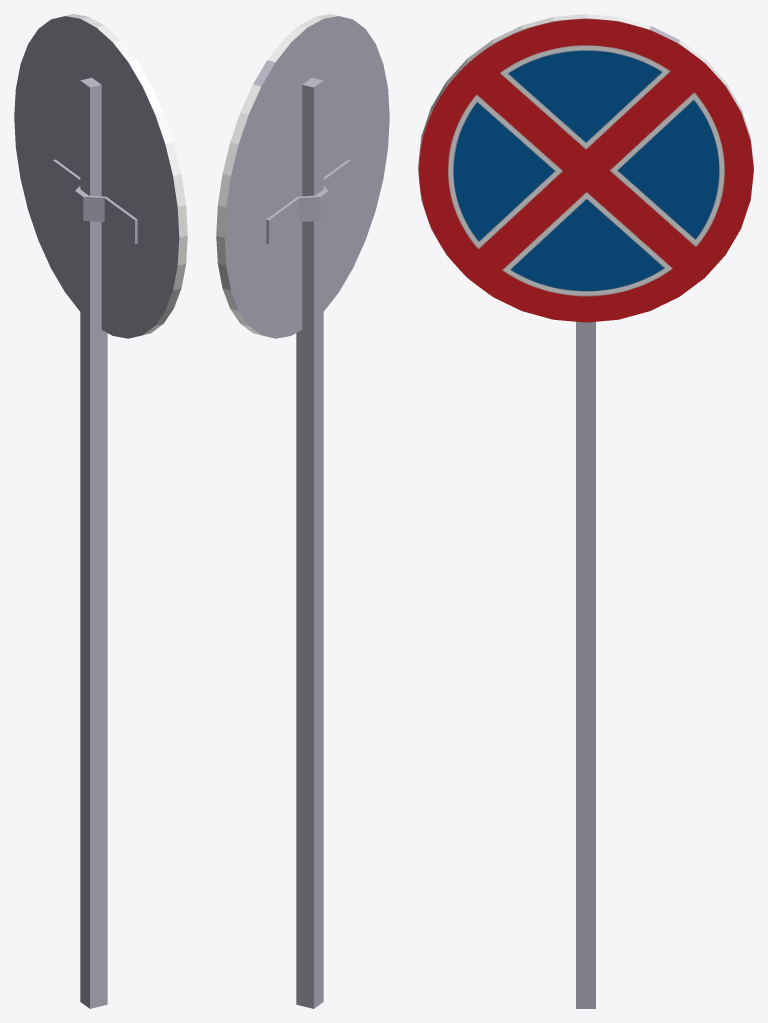
The model's file is noparksign.fbx.
3 views of the same model, side by side, from view 1: azimuth 30°, elevation 25°; view 2: azimuth 150°, elevation 25°; view 3: azimuth 270°, elevation 25° (orthographic).
Parts seen in each view (by area): view 1: Sign, Stand, Holder, Holder.001; view 2: Sign, Stand, Holder.001, Holder; view 3: Sign, Stand.
Part boxes in pixels (x1,y1,x2,y2): Sign: (14,14,187,338); Stand: (80,77,107,1008); Holder: (79,192,137,243); Holder.001: (53,159,84,217); Sign: (216,14,389,338); Stand: (296,77,323,1008); Holder.001: (266,192,324,244); Holder: (319,159,350,217); Sign: (418,14,753,322); Stand: (576,321,595,1008).
Size of the model in its own units: 18.2 by 652 by 200.
